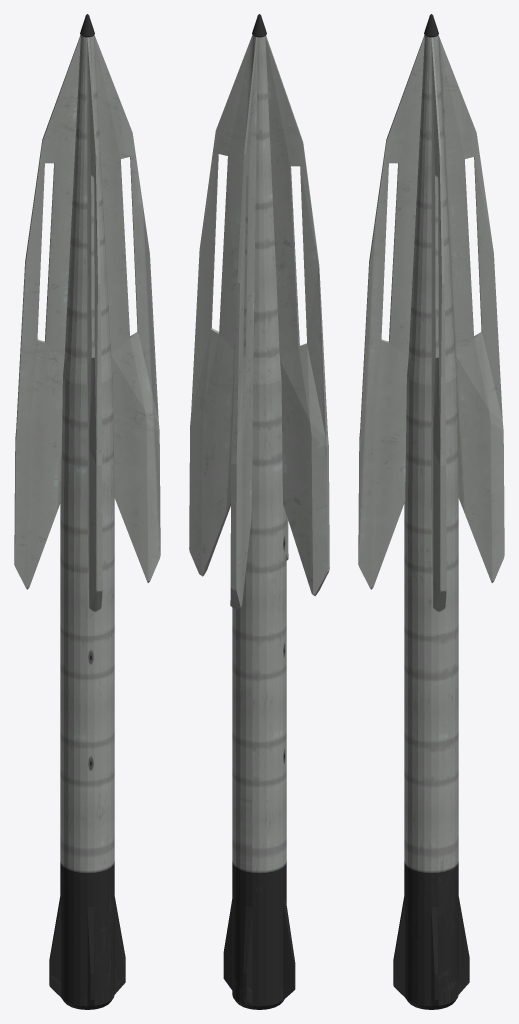
Rendered from SM_GrappleProjectile.fbx.
3 renders of one model, left to right at view 1: azimuth 90°, elevation 25°; view 2: azimuth 150°, elevation 25°; view 3: azimuth 270°, elevation 25°, orthographic.
Parts seen in each view (by area): view 1: Undefined; view 2: Undefined; view 3: Undefined.
Boxes of the visible parts, x1,y1,x2,y2 form: Undefined: (14,14,160,1009); Undefined: (189,14,329,1009); Undefined: (358,14,504,1009).
Size of the model in its own units: 1.28 by 9.55 by 1.28.
